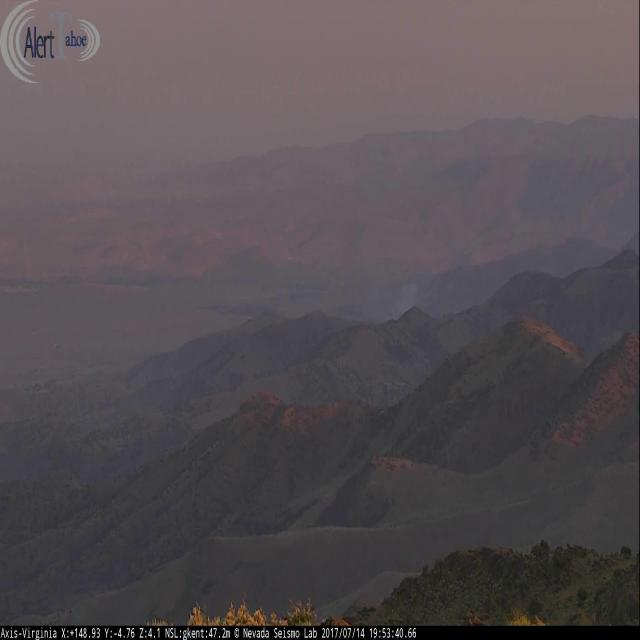smoke: (374, 285, 419, 322)
